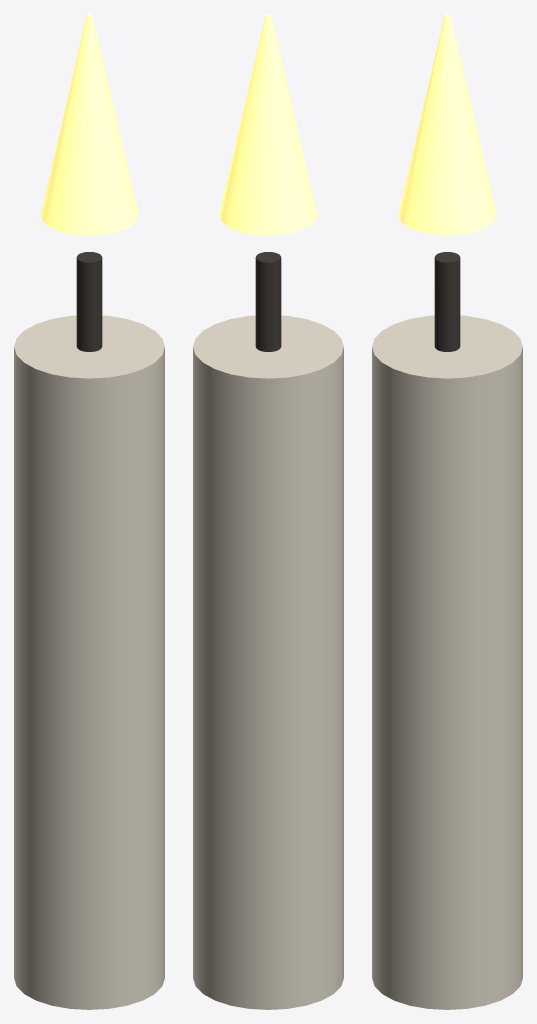
Rendered from candle.glb.
3 renders of one model, left to right at view 1: azimuth 30°, elevation 25°; view 2: azimuth 150°, elevation 25°; view 3: azimuth 270°, elevation 25°, orthographic.
Parts seen in each view (by area): view 1: wax, flame_core, wick; view 2: wax, flame_core, wick; view 3: wax, flame_core, wick.
Part boxes in pixels (x1,y1,x2,y2): wax: (14, 315, 164, 1009); flame_core: (40, 14, 138, 235); wick: (76, 252, 102, 351); wax: (193, 315, 343, 1009); flame_core: (219, 14, 317, 235); wick: (255, 252, 281, 351); wax: (372, 315, 522, 1009); flame_core: (398, 14, 496, 235); wick: (434, 252, 460, 351).
Bounding box in the file's own units: 0.026 × 0.183 × 0.026.
